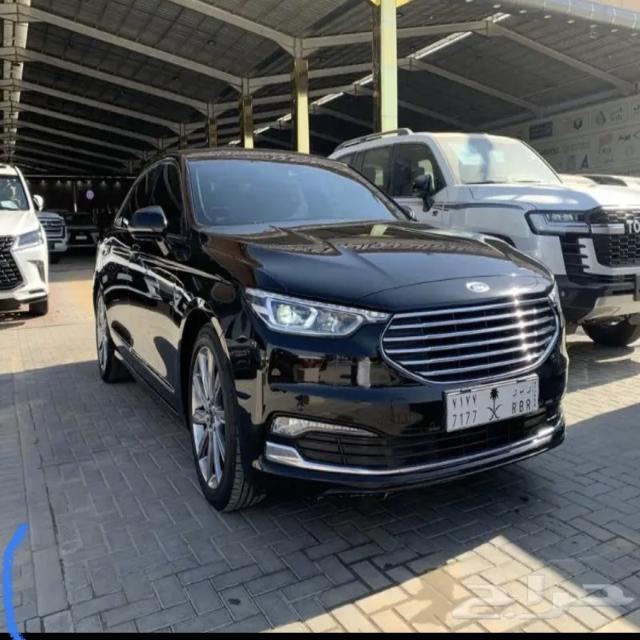license_plate: (446, 376, 542, 428)
